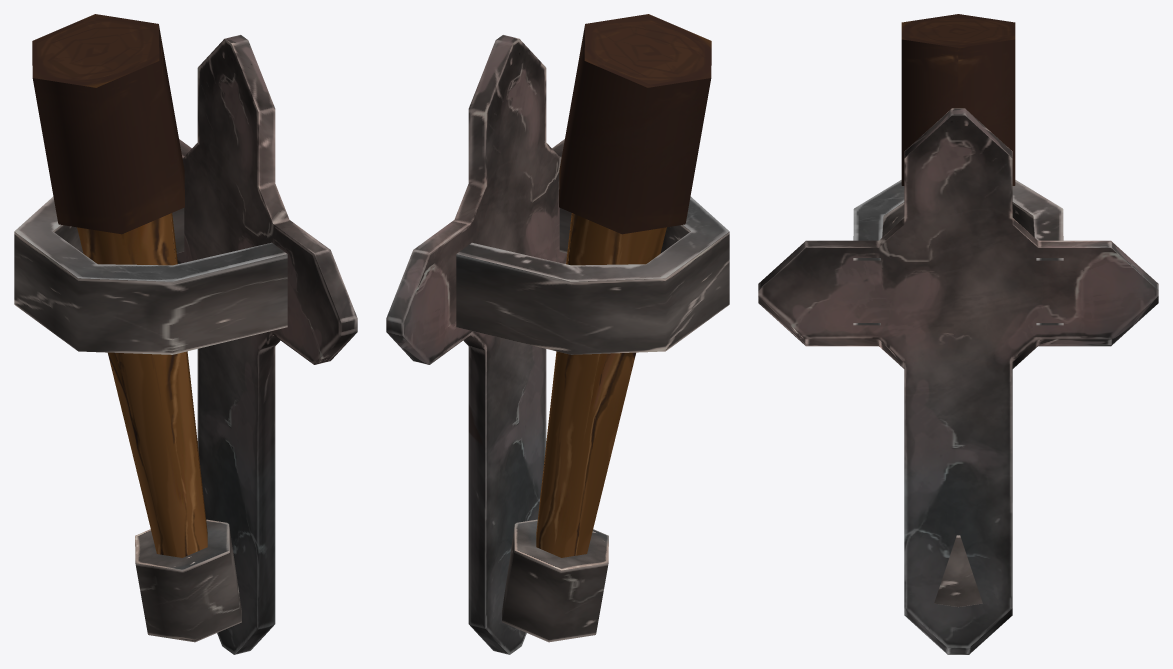
Rendered from Torch.fbx.
3 renders of one model, left to right at view 1: azimuth 30°, elevation 25°; view 2: azimuth 150°, elevation 25°; view 3: azimuth 270°, elevation 25°, orthographic. The views are drawn at different scales.
Parts seen in each view (by area): view 1: Cube_1; view 2: Cube_1; view 3: Cube_1.
Part boxes in pixels (x1,y1,x2,y2): Cube_1: (14,14,357,654); Cube_1: (386,14,729,654); Cube_1: (758,14,1158,654).
Bounding box in the file's own units: 111 × 323 × 206.
Materials: 1 (1 with a texture image).
